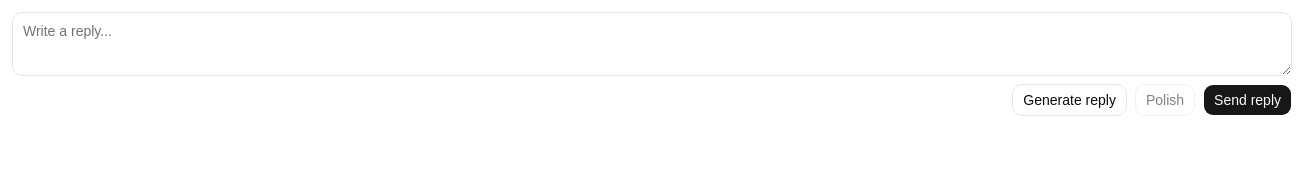
it: ReplyForm › disables all buttons and shows a generating label while the request is in flight
The width and height of the screenshot is (1304, 172).
Click the button "Generate reply": (1070,100) [1012,84,1127,116]
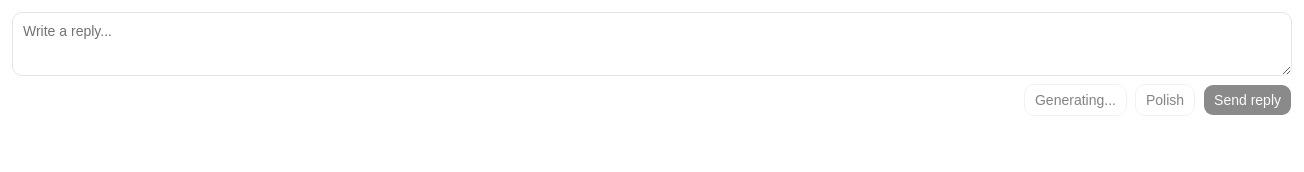
Expected: the button "Polish" is disabled, [1135,84,1195,116]
Expected: the button "Generating..." is disabled, [1024,84,1127,116]
Expected: the button "Send reply" is disabled, [1203,84,1292,116]
